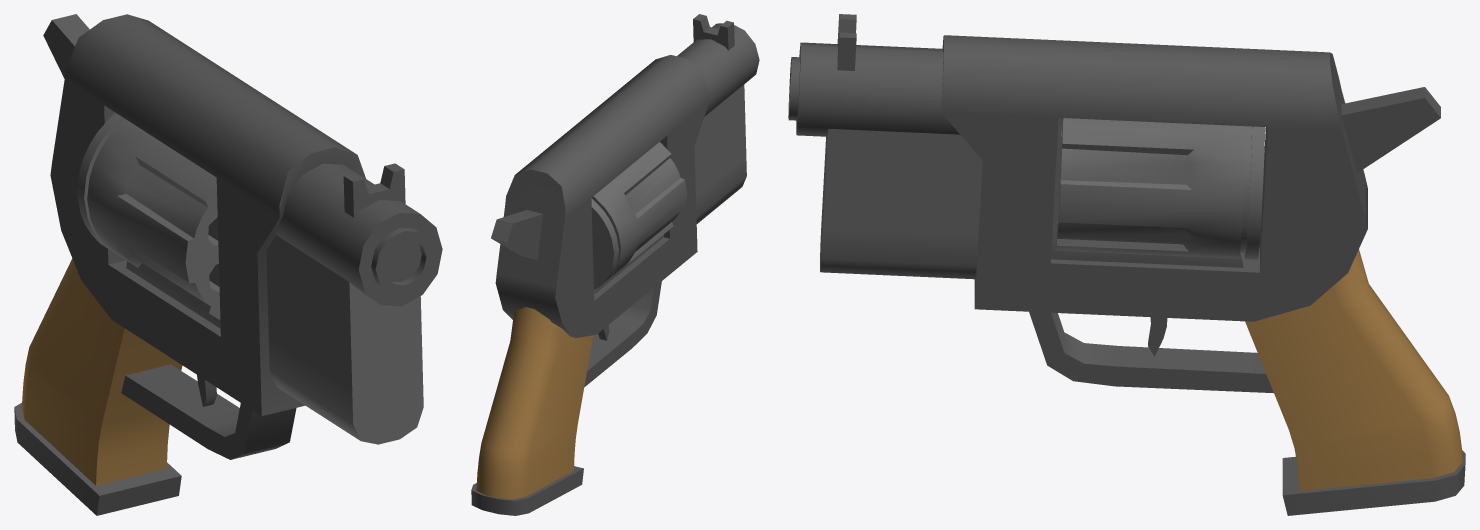
File: pistol1-food.fbx
3 renders of one model, left to right at view 1: azimuth 30°, elevation 25°; view 2: azimuth 150°, elevation 25°; view 3: azimuth 270°, elevation 25°, orthographic. The views are drawn at different scales.
Parts seen in each view (by area): view 1: pistol1-food; view 2: pistol1-food; view 3: pistol1-food.
Part boxes in pixels (left/top/right/bottom): pistol1-food: left=14, top=14, right=442, bottom=515; pistol1-food: left=471, top=14, right=759, bottom=515; pistol1-food: left=788, top=14, right=1465, bottom=515.
Bounding box in the file's own units: 0.08 × 0.2585 × 0.3364.
